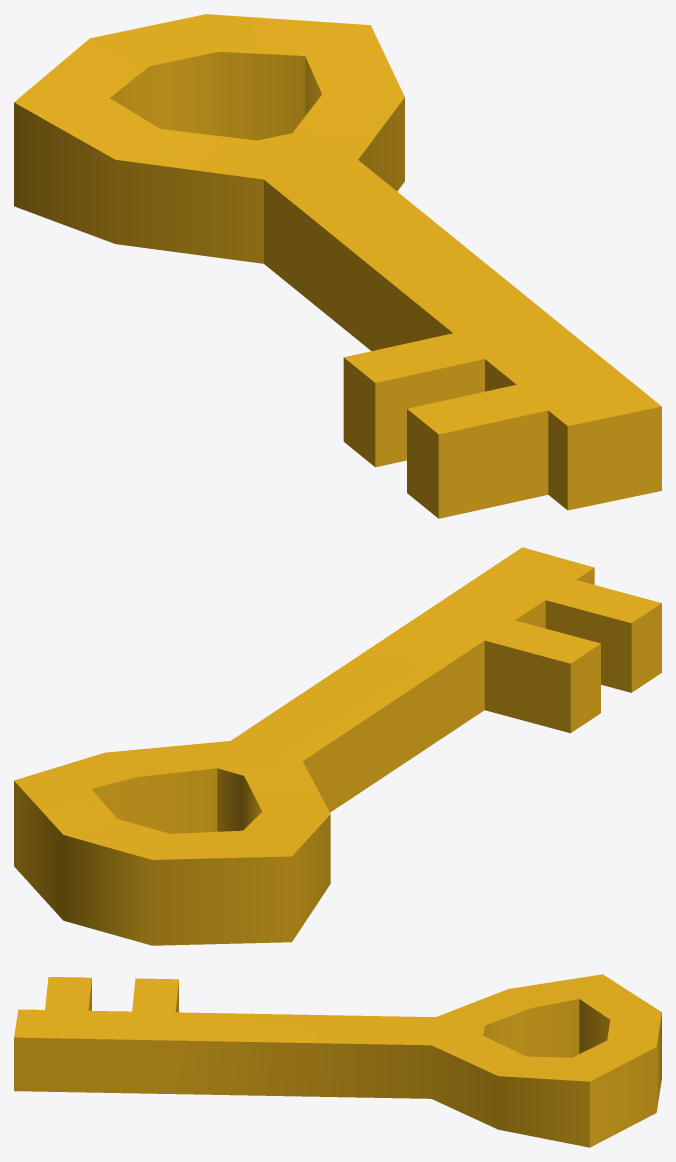
The model's file is clé.FBX.
3 views of the same model, one above another, from view 1: azimuth 30°, elevation 25°; view 2: azimuth 150°, elevation 25°; view 3: azimuth 270°, elevation 25° (orthographic). The views are drawn at different scales.
Visible parts, largest first — view 1: Cylinder014; view 2: Cylinder014; view 3: Cylinder014.
Part boxes in pixels (box(x1,y1,x2,y2)): Cylinder014: box(14, 14, 661, 518); Cylinder014: box(14, 547, 661, 945); Cylinder014: box(14, 974, 661, 1147).
Bounding box in the file's own units: 0.2067 × 0.0573 × 0.5097.
